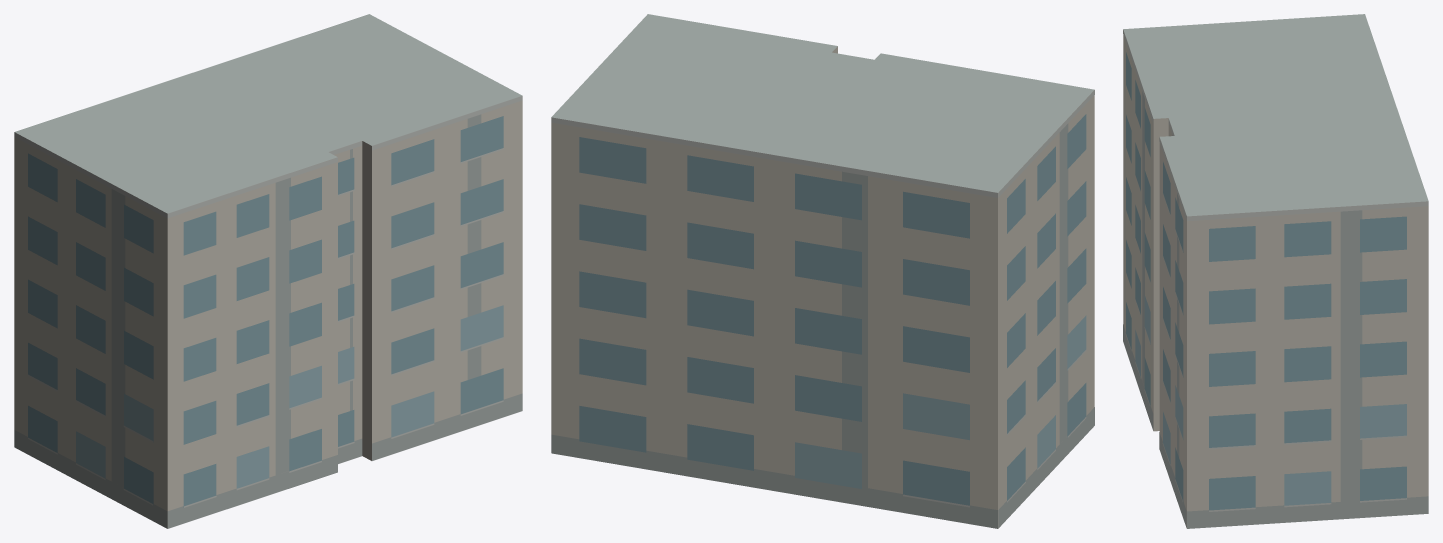
The model's file is survey-upis-32577576.glb.
3 renders of one model, left to right at view 1: azimuth 30°, elevation 25°; view 2: azimuth 150°, elevation 25°; view 3: azimuth 270°, elevation 25°, orthographic. The views are drawn at different scales.
Parts seen in each view (by area): view 1: survey-upis-32577576.tmp; view 2: survey-upis-32577576.tmp; view 3: survey-upis-32577576.tmp.
Boxes of the visible parts, box(x1,y1,x2,y2) form: survey-upis-32577576.tmp: box(14, 14, 522, 528); survey-upis-32577576.tmp: box(551, 14, 1094, 528); survey-upis-32577576.tmp: box(1123, 14, 1428, 528).
Size of the model in its own units: 22.03 by 15.85 by 14.06.
